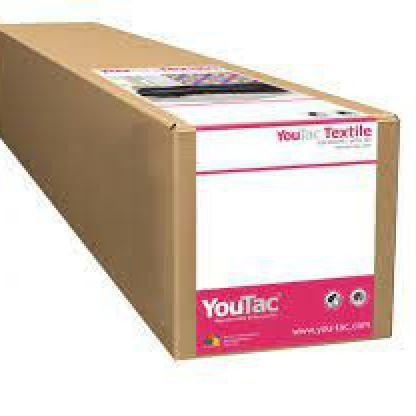box: (0, 16, 404, 370)
